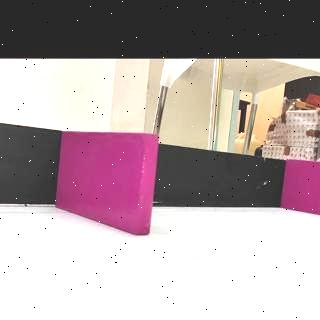xparking: (64, 134, 154, 229), (285, 163, 320, 210)
